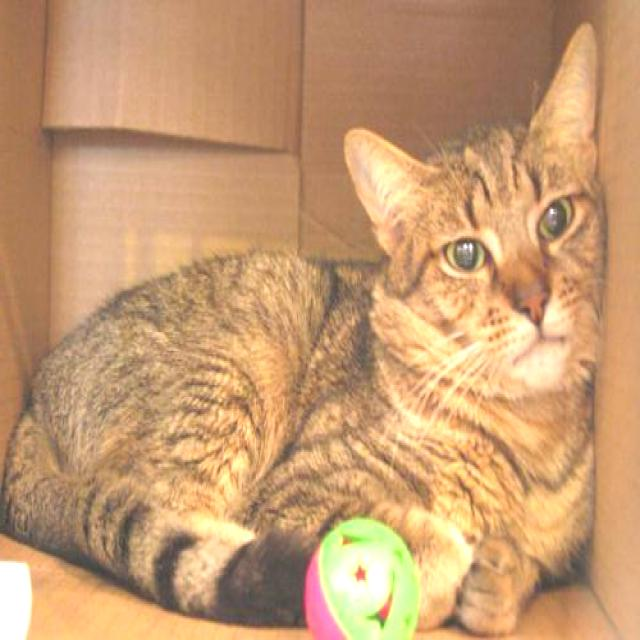Kucing: (42, 1, 640, 522)
